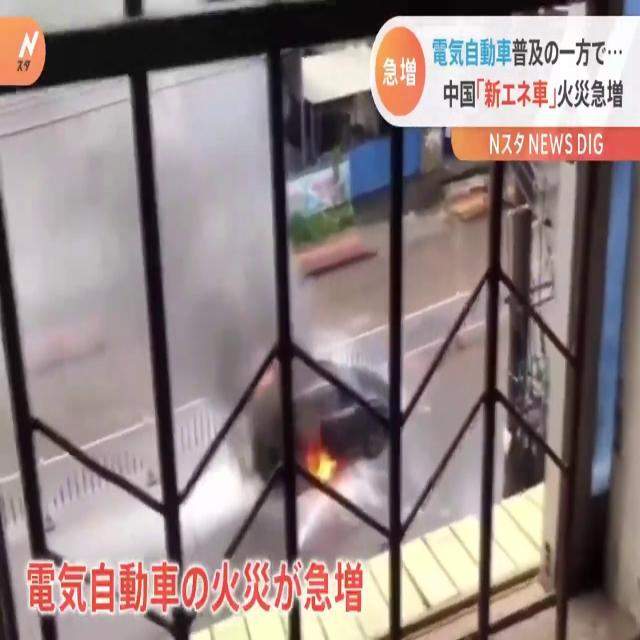Fire: (301, 433, 345, 498)
Smoke: (46, 70, 300, 479)
